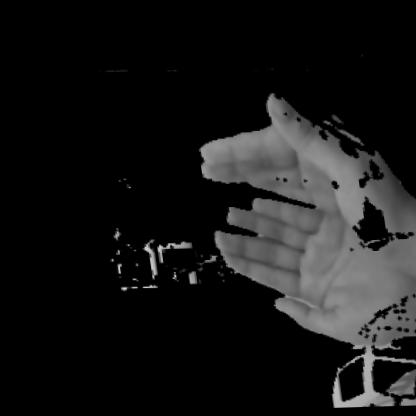dua: (156, 85, 415, 377)
